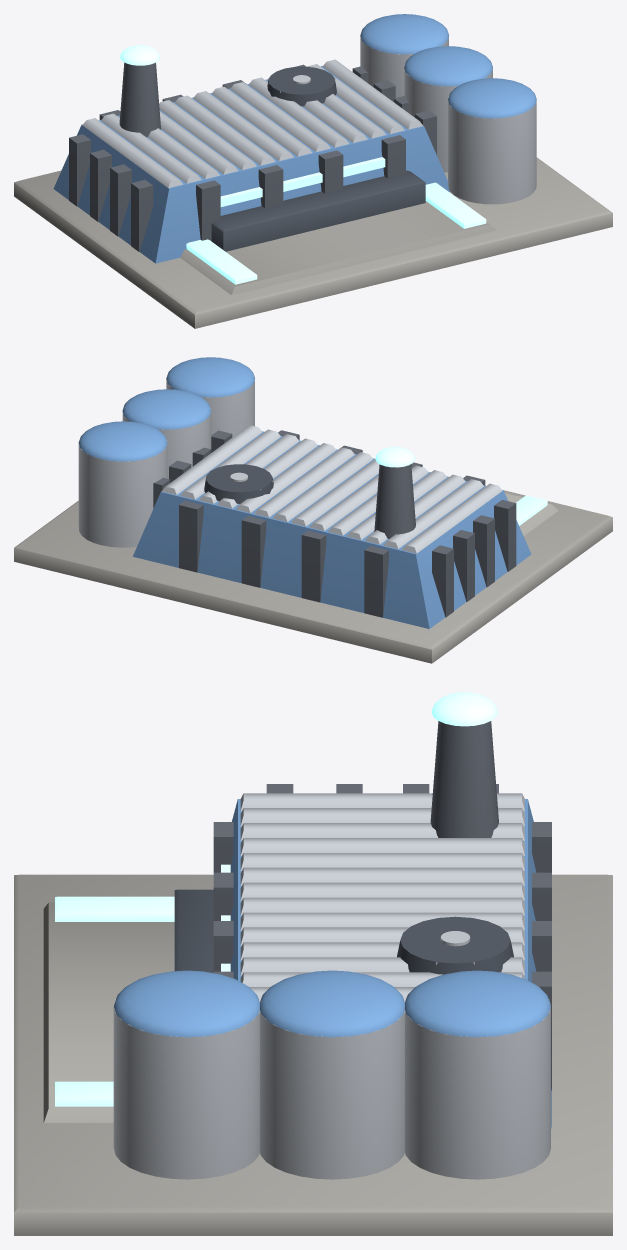
The model's file is garefn.glb.
The picture shows the model from 3 angles, top to bottom: view 1: azimuth 30°, elevation 25°; view 2: azimuth 150°, elevation 25°; view 3: azimuth 270°, elevation 25°; orthographic projection. The views are drawn at different scales.
Visible parts, largest first — view 1: Hull; view 2: Hull; view 3: Hull.
Part boxes in pixels (x1,y1,x2,y2): Hull: [14, 14, 612, 328]; Hull: [14, 357, 612, 663]; Hull: [14, 692, 612, 1235].
Size of the model in its own units: 6.84 by 2.52 by 5.13.
